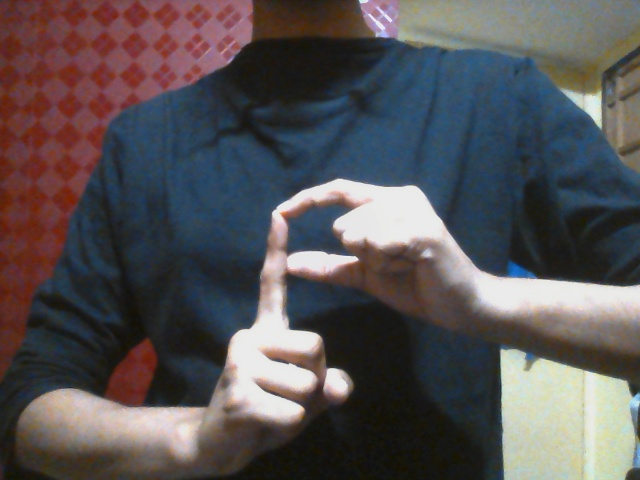P: (210, 178, 467, 455)
